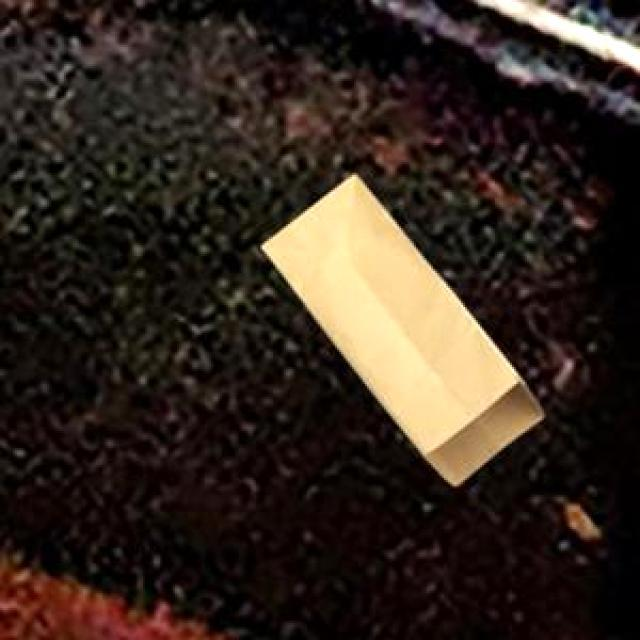Paper_Bag: (259, 172, 541, 482)
